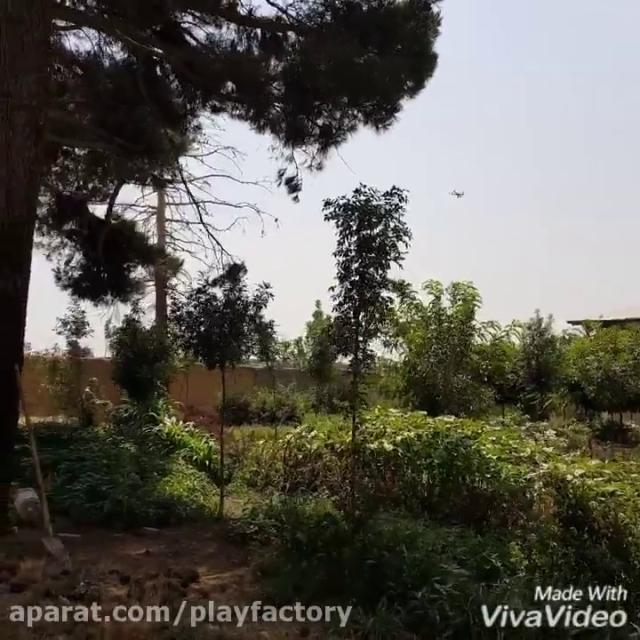drone: (447, 184, 468, 200)
